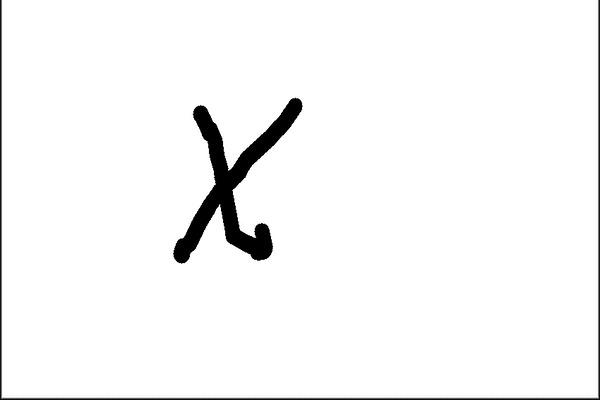X: (137, 80, 319, 281)
